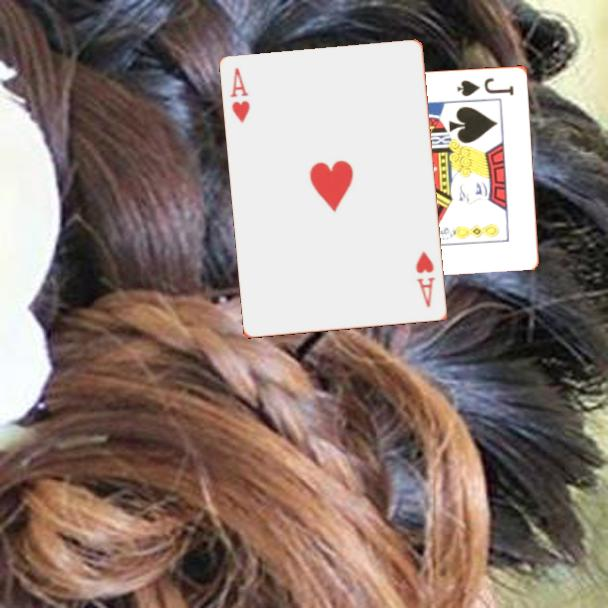h01: (412, 248, 438, 310), (227, 65, 253, 126)
s11: (454, 74, 517, 99)
